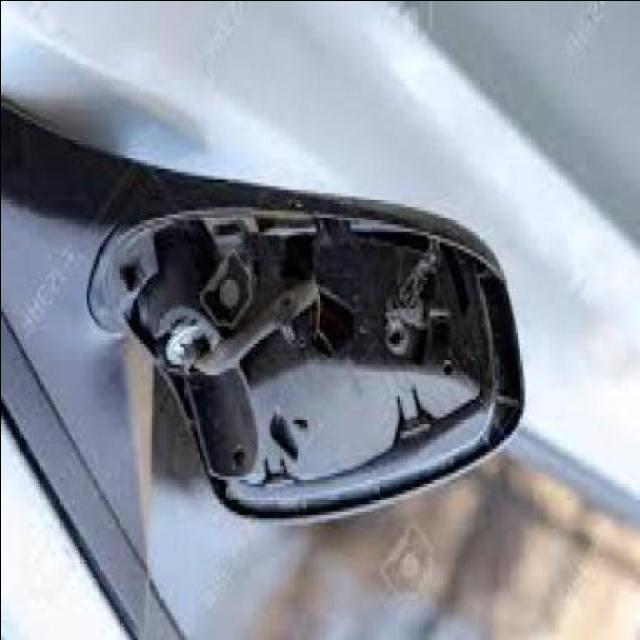Sidemirror-Damage: (92, 207, 526, 519)
